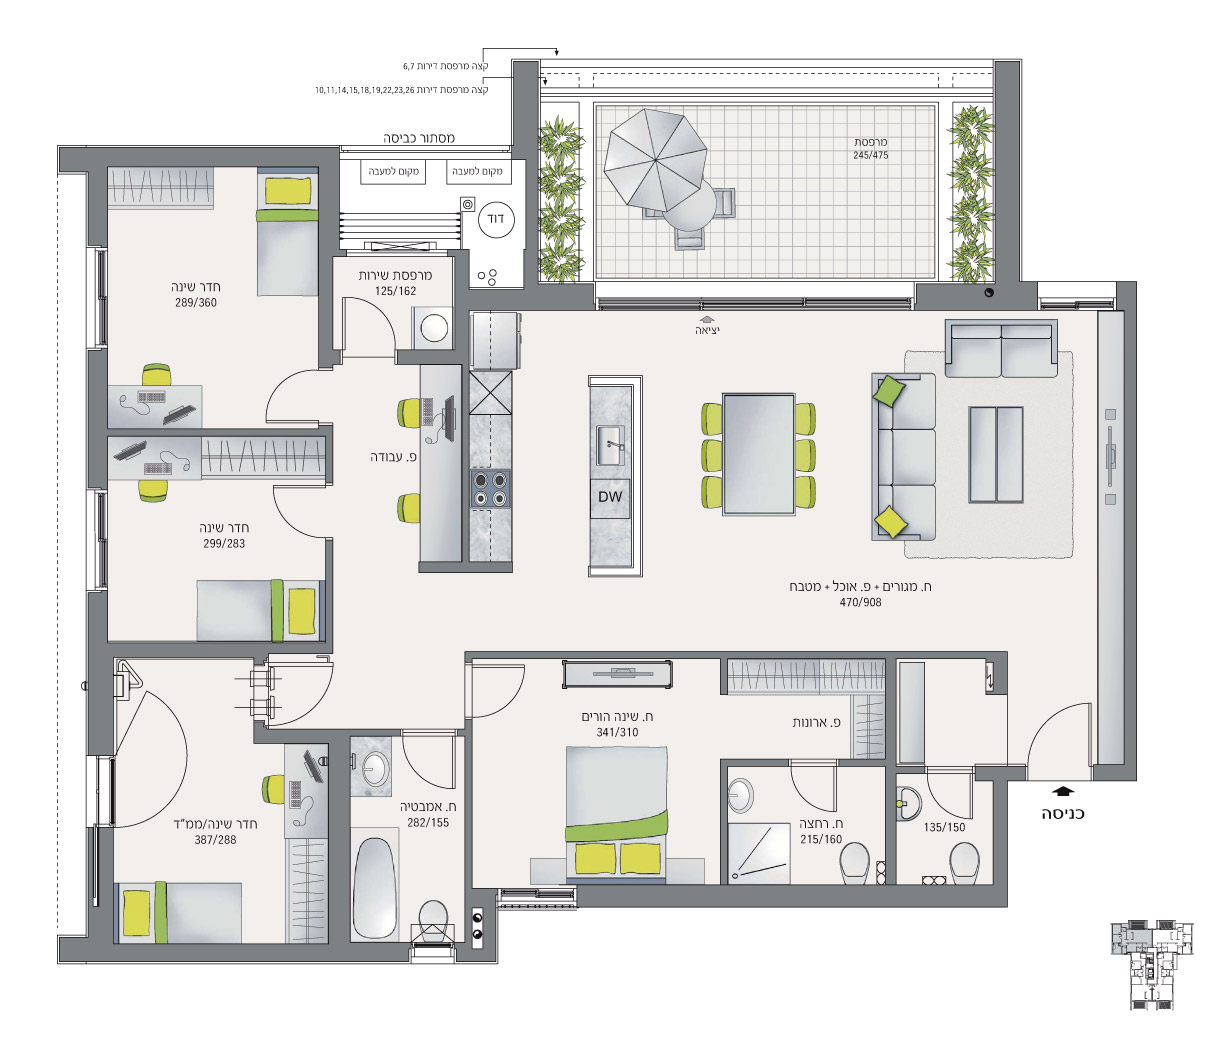door: (273, 657, 346, 729), (1022, 689, 1096, 762), (336, 282, 403, 350), (474, 662, 531, 728), (267, 480, 322, 543), (262, 364, 315, 429), (785, 765, 845, 820), (921, 778, 981, 833), (403, 741, 462, 796)
wall: (581, 887, 1007, 909), (1122, 284, 1136, 781), (57, 943, 411, 962), (994, 61, 1020, 311), (56, 147, 337, 168)
window: (595, 280, 916, 311), (1037, 279, 1117, 314), (85, 246, 106, 350), (85, 489, 106, 592), (495, 886, 577, 910)
